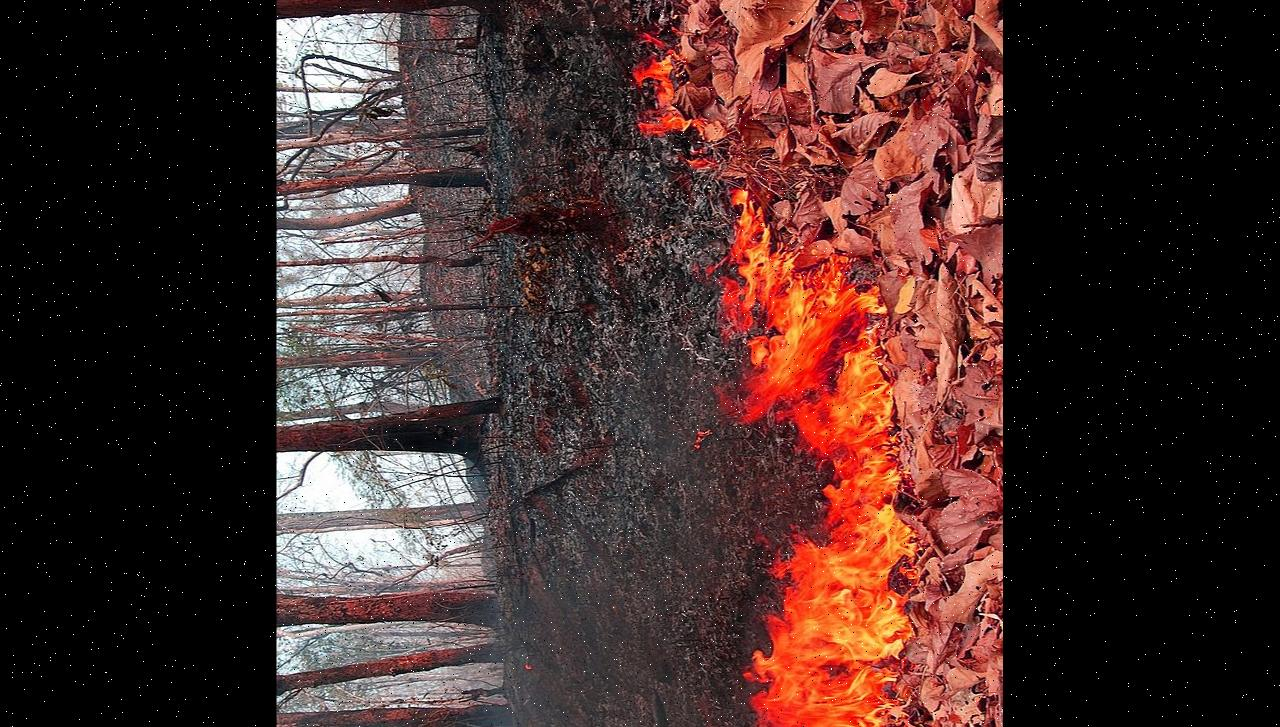fire: (656, 183, 928, 727), (498, 0, 729, 168)
